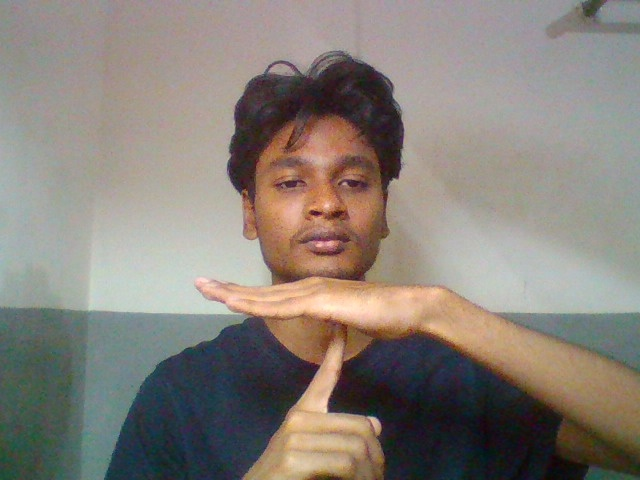T: (184, 261, 461, 480)
